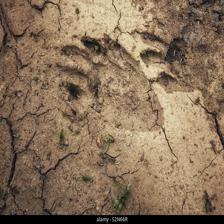raccoon: (46, 30, 168, 145)
